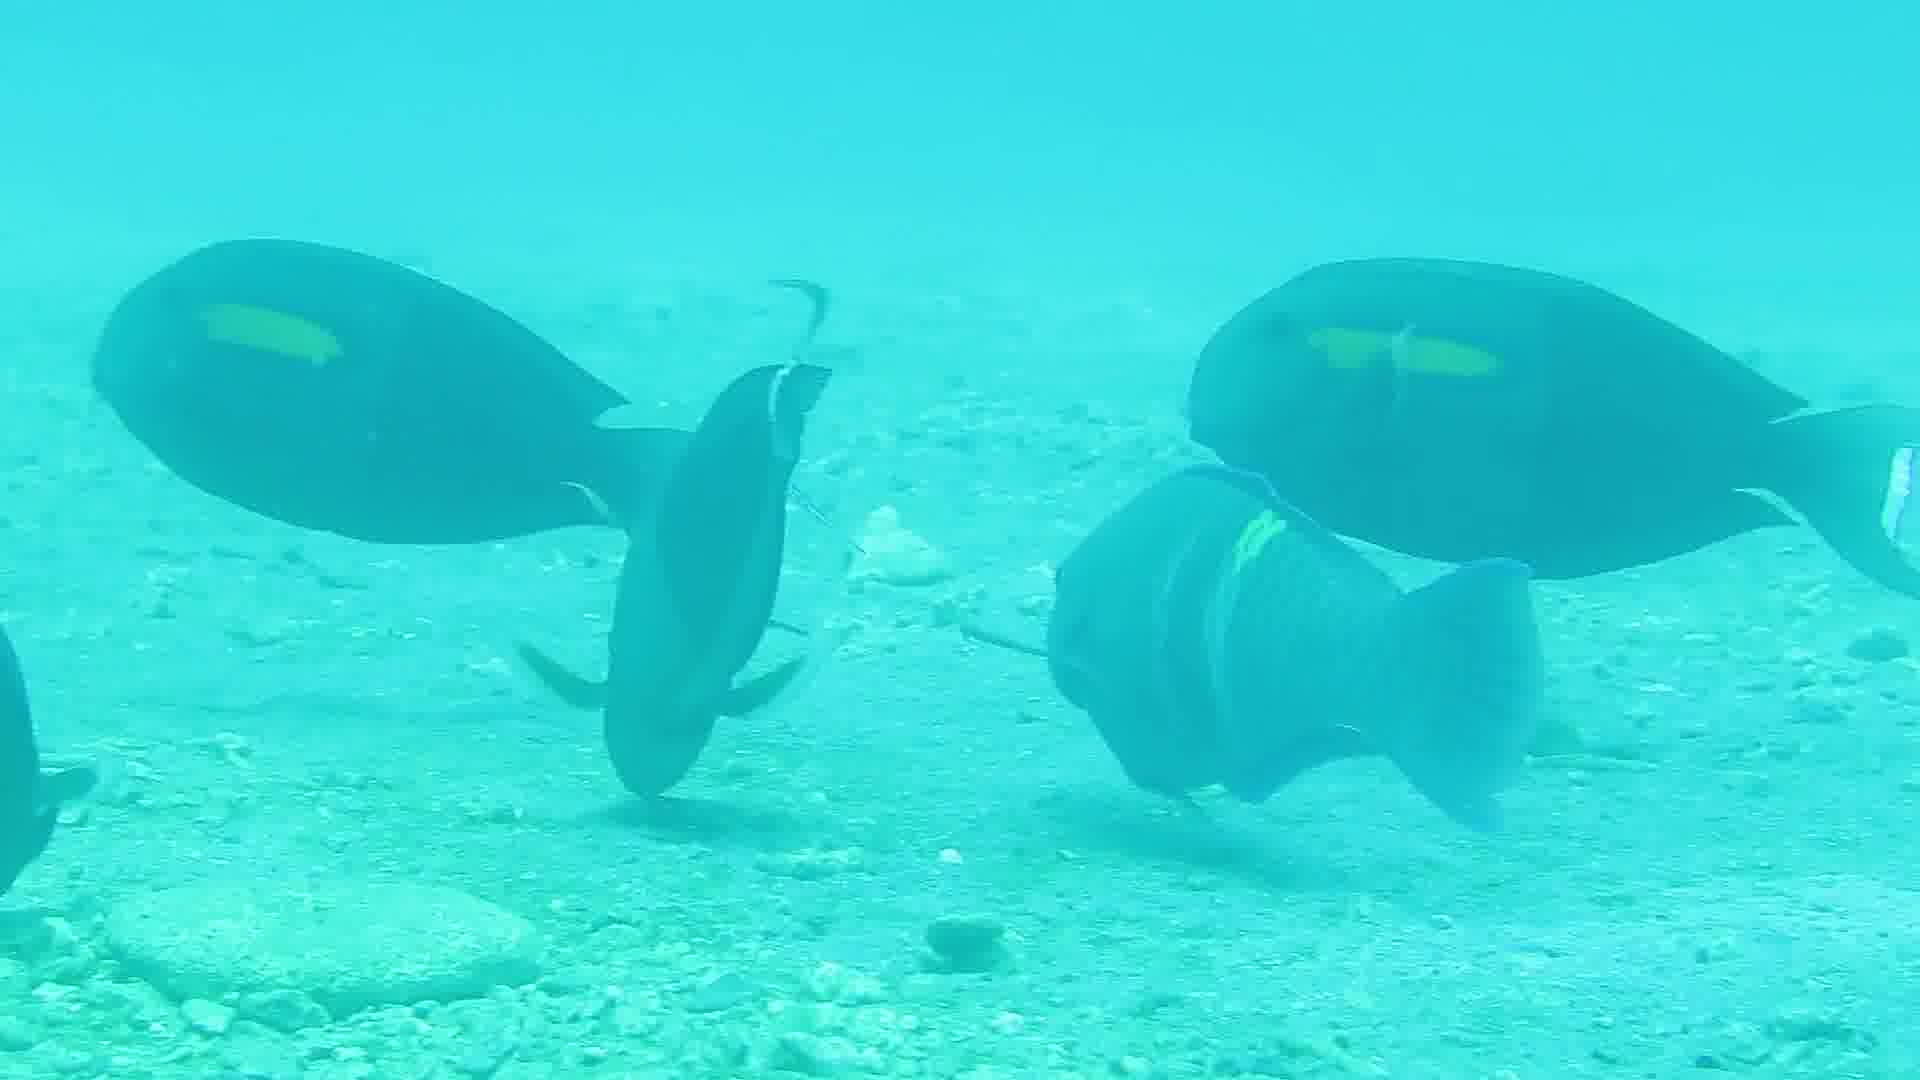Acanthurus olivaceus: (1175, 146, 1920, 591), (84, 191, 653, 570), (558, 324, 832, 831), (560, 326, 833, 833)
